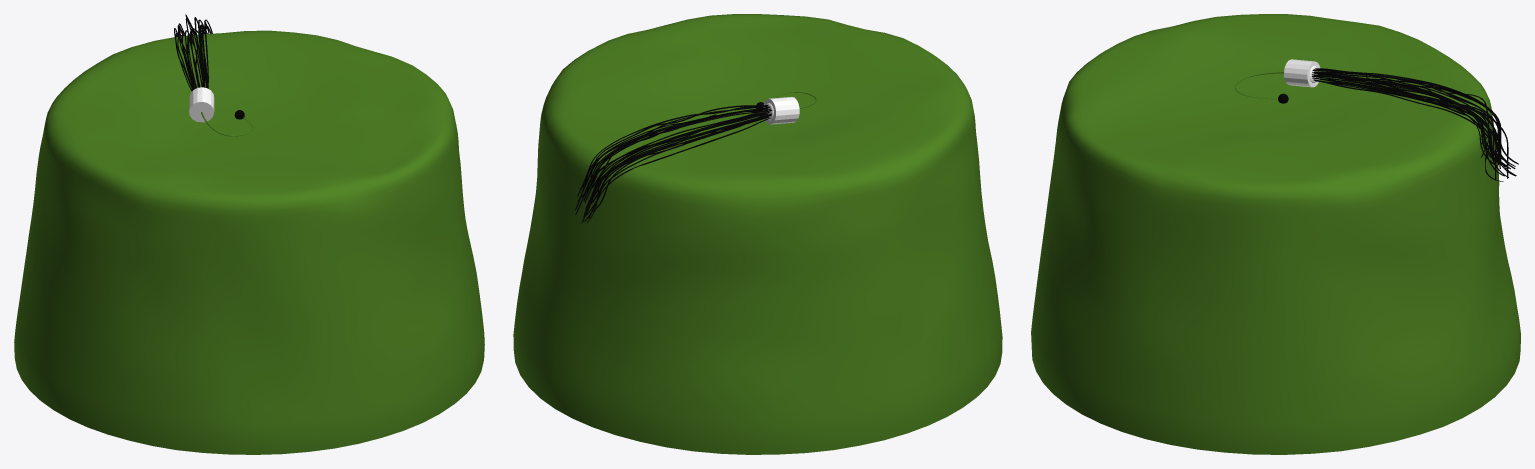
Rendered from tarbouch v3.fbx.
3 renders of one model, left to right at view 1: azimuth 30°, elevation 25°; view 2: azimuth 150°, elevation 25°; view 3: azimuth 270°, elevation 25°, orthographic. The views are drawn at different scales.
Visible parts, largest first — view 1: Remesh_1_remesh, Sweep_remesh_remesh_remesh, Cylinder_2; view 2: Remesh_1_remesh, Sweep_remesh_remesh_remesh, Cylinder_2; view 3: Remesh_1_remesh, Sweep_remesh_remesh_remesh, Cylinder_2.
Boxes of the visible parts, x1,y1,x2,y2 form: Remesh_1_remesh: [14, 30, 484, 454]; Sweep_remesh_remesh_remesh: [174, 14, 212, 91]; Cylinder_2: [189, 87, 214, 122]; Remesh_1_remesh: [513, 14, 1002, 454]; Sweep_remesh_remesh_remesh: [575, 105, 771, 223]; Cylinder_2: [763, 97, 799, 124]; Remesh_1_remesh: [1031, 14, 1520, 454]; Sweep_remesh_remesh_remesh: [1312, 68, 1518, 181]; Cylinder_2: [1284, 59, 1320, 87].
Bounding box in the file's own units: 110 × 69.58 × 111.
